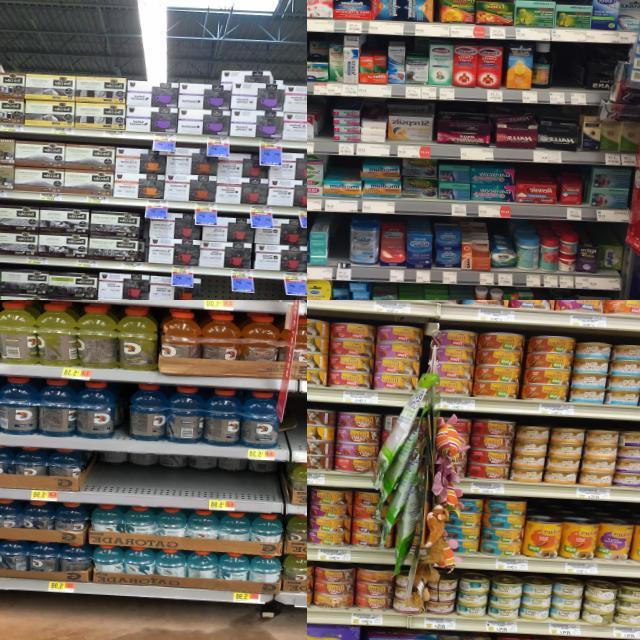empty_space: (548, 44, 572, 104), (330, 216, 350, 280), (198, 279, 254, 300), (321, 97, 335, 154), (255, 282, 293, 300)
